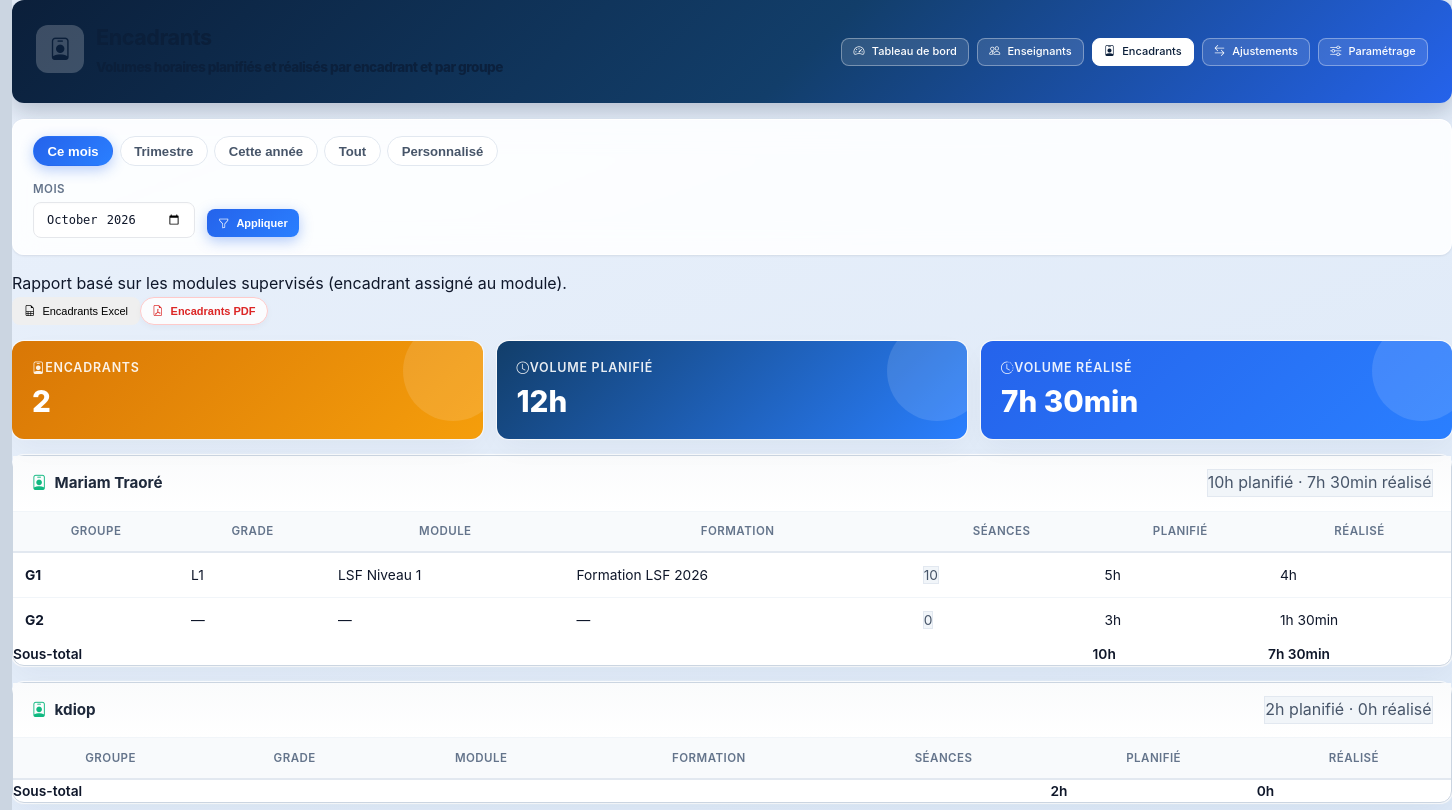
Scenario: pages/FinanceEncadrants.jsx — exports (LOT 27) › exporte la liste en PDF
Click the button "Encadrants PDF" at (204, 311), box [140,297,268,325]
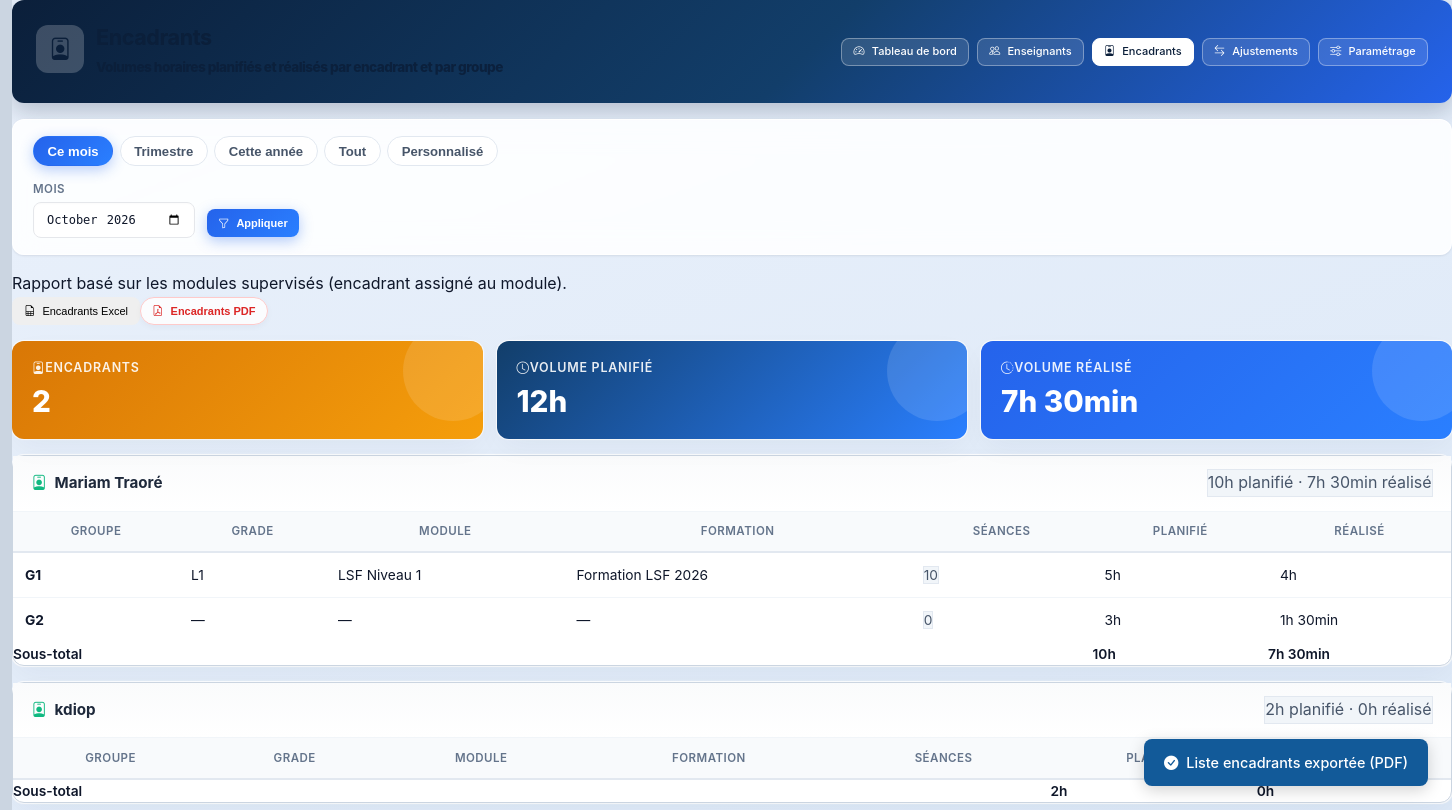
Result: the text "Liste encadrants exportée (PDF)" is shown at [1144,739,1428,786]
